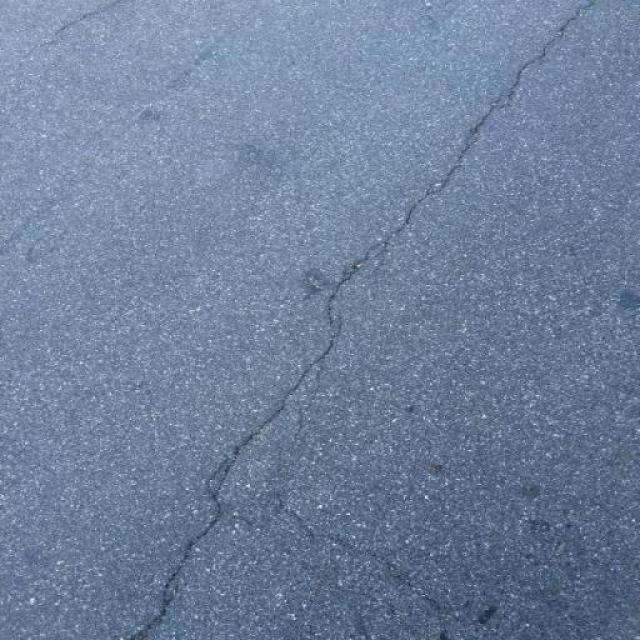Crack: (130, 0, 605, 640)
